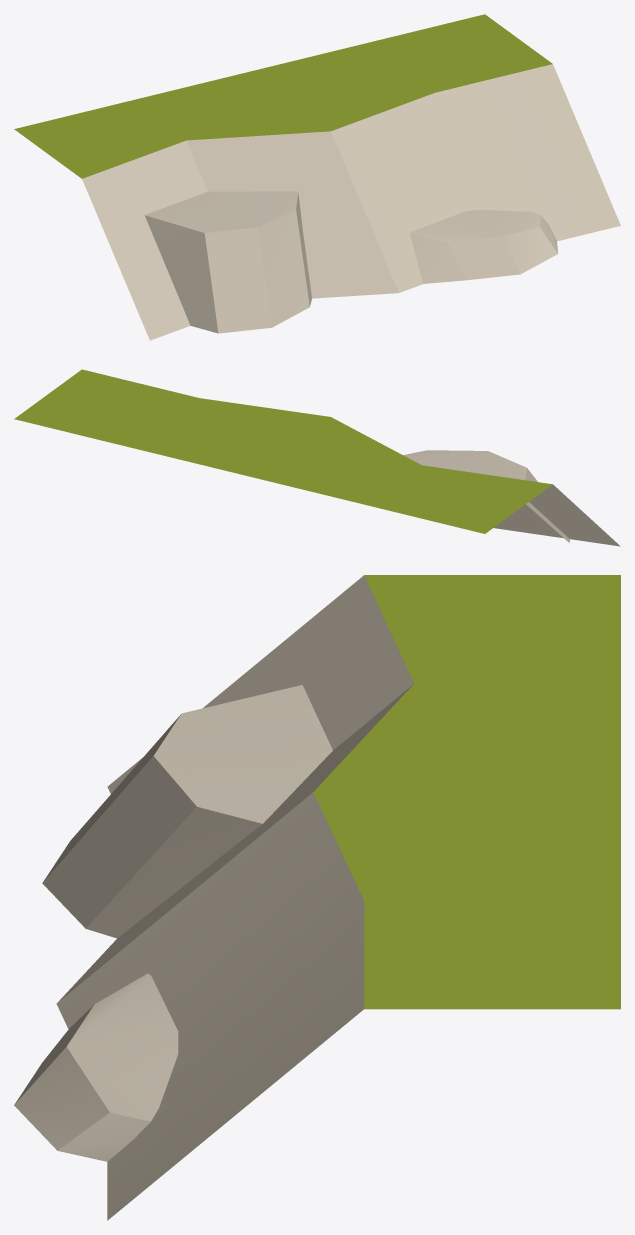
Rendered from Grid_Cell_Water.DAE.
3 views of the same model, one above another, from view 1: azimuth 30°, elevation 25°; view 2: azimuth 150°, elevation 25°; view 3: azimuth 270°, elevation 25° (orthographic). The views are drawn at different scales.
Parts seen in each view (by area): view 1: RiverBank; view 2: RiverBank; view 3: RiverBank.
Part boxes in pixels (box(x1,y1,x2,y2)): RiverBank: box(14, 14, 620, 340); RiverBank: box(14, 369, 620, 546); RiverBank: box(14, 575, 620, 1220).
Size of the model in its own units: 1 by 0.2273 by 0.5909.
